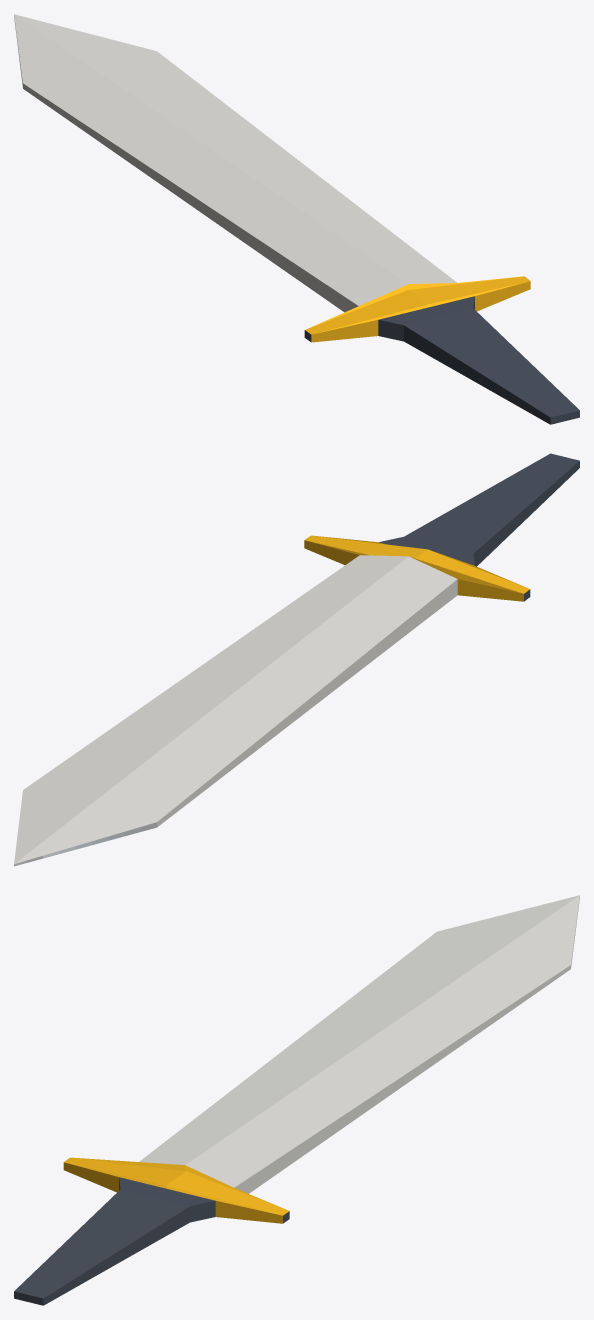
The model's file is sword.obj.
3 renders of one model, top to bottom at view 1: azimuth 30°, elevation 25°; view 2: azimuth 150°, elevation 25°; view 3: azimuth 330°, elevation 25°, orthographic.
Parts seen in each view (by area): view 1: sword; view 2: sword; view 3: sword.
Boxes of the visible parts, bbox=[...] form: sword: bbox=[14, 14, 579, 424]; sword: bbox=[14, 453, 579, 866]; sword: bbox=[14, 895, 579, 1305].
Bounding box in the file's own units: 0.1593 × 0.0279 × 0.6923.
